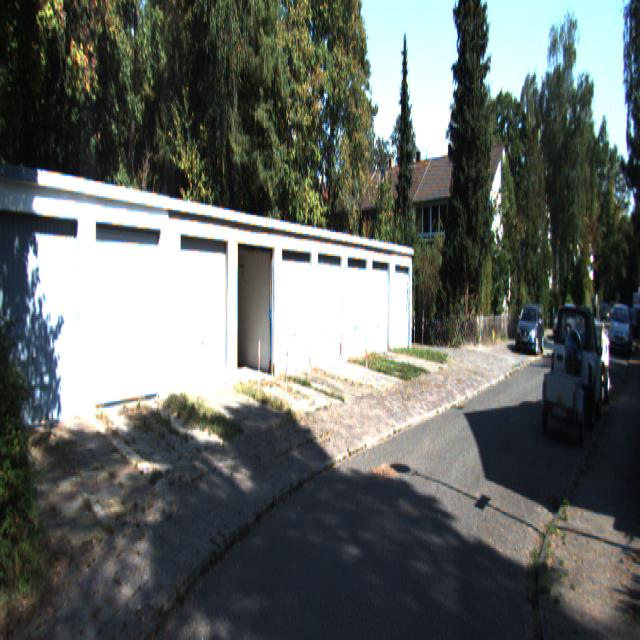Car: (552, 301, 605, 428), (514, 304, 544, 356)
DontCare: (608, 302, 639, 345)
Misc: (542, 357, 582, 432)
